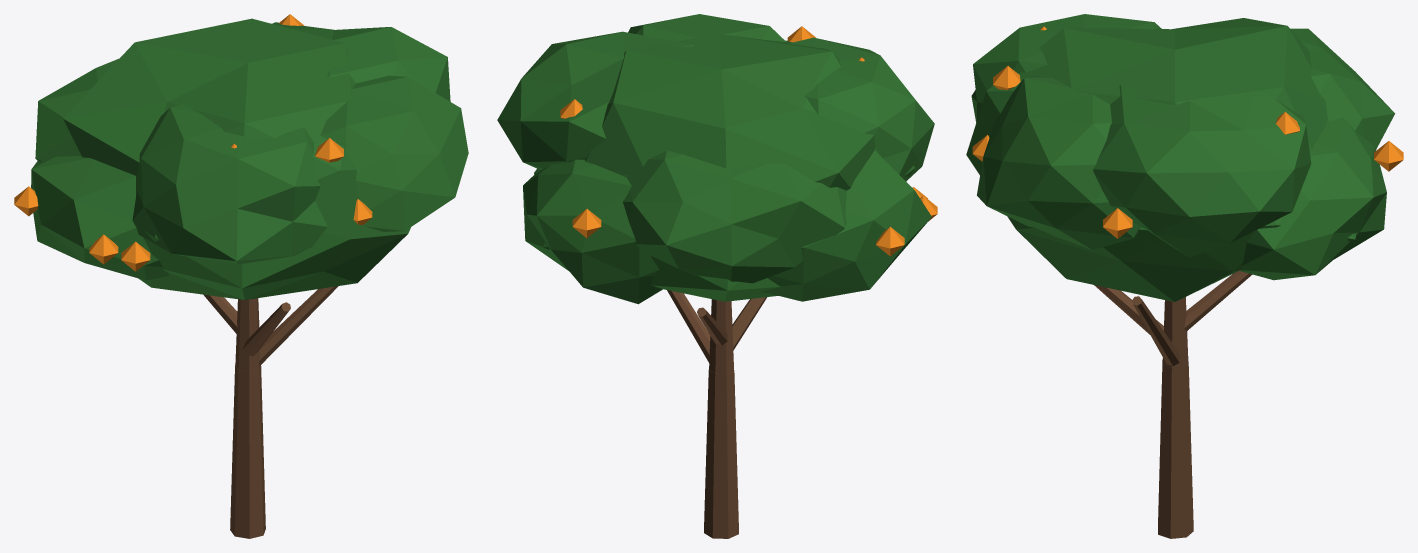
Rendered from orange_tree.glb.
3 renders of one model, left to right at view 1: azimuth 30°, elevation 25°; view 2: azimuth 150°, elevation 25°; view 3: azimuth 270°, elevation 25°, orthographic. The views are drawn at different scales.
Visible parts, largest first — view 1: orange_tree; view 2: orange_tree; view 3: orange_tree.
Part boxes in pixels (x1=…): orange_tree: x1=14, y1=14, x2=468, y2=538; orange_tree: x1=497, y1=14, x2=937, y2=538; orange_tree: x1=966, y1=14, x2=1403, y2=538.
Bounding box in the file's own units: 2.81 × 3.09 × 2.54.
